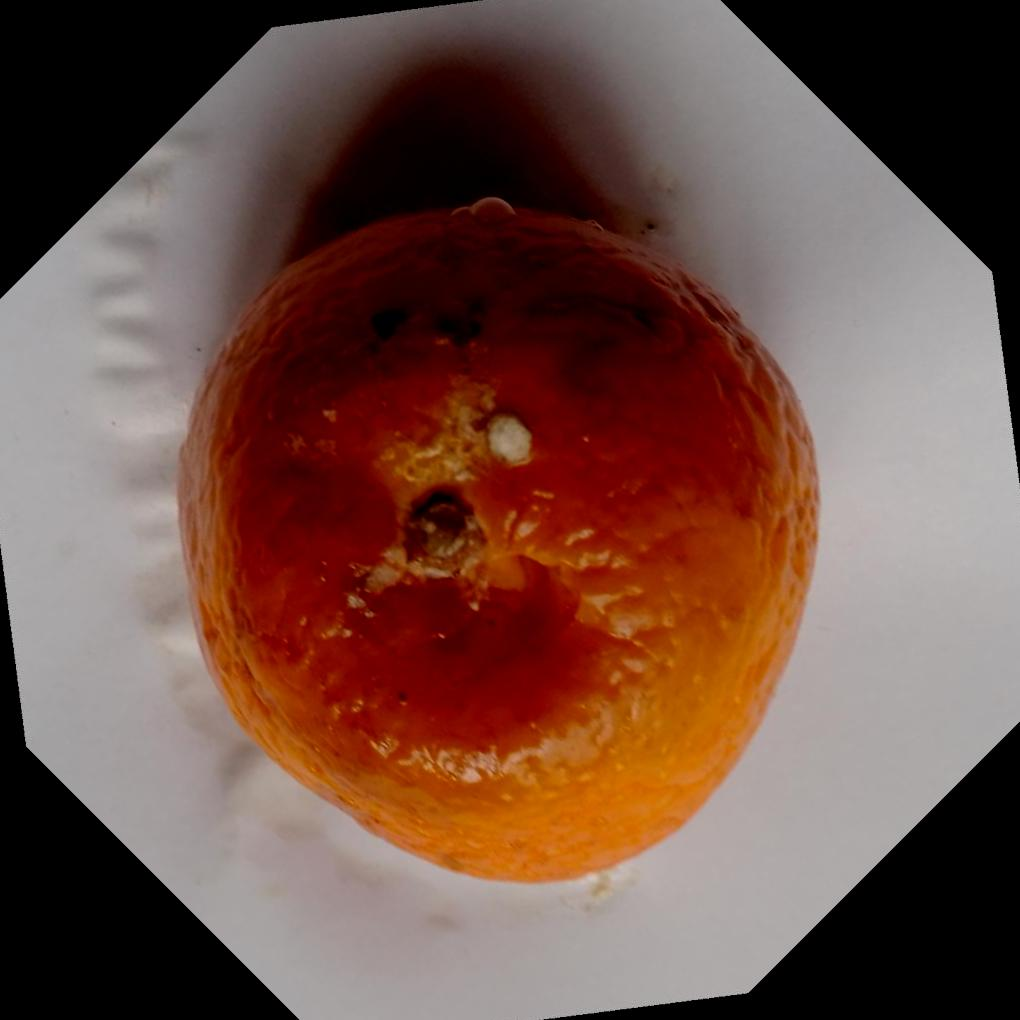FreshOrange: (170, 195, 821, 890)
